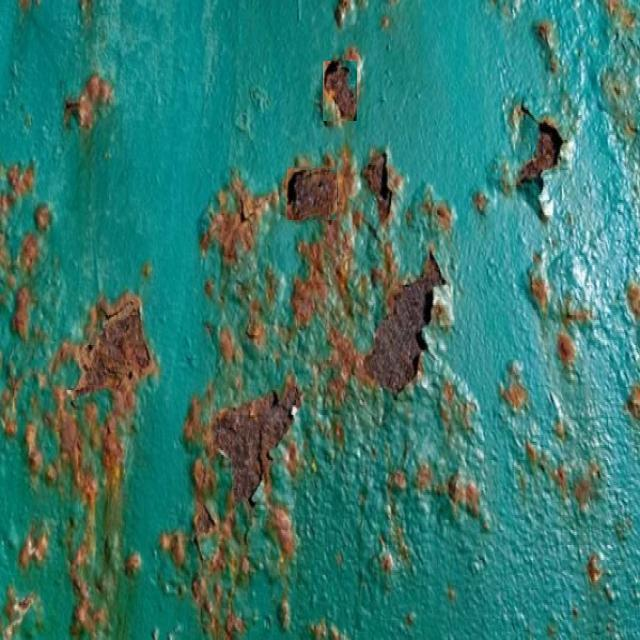Corrosion: (161, 148, 492, 640), (180, 148, 491, 640), (0, 164, 156, 640), (25, 293, 156, 640), (365, 253, 446, 392), (518, 121, 565, 186), (64, 74, 112, 128), (323, 58, 360, 125)
